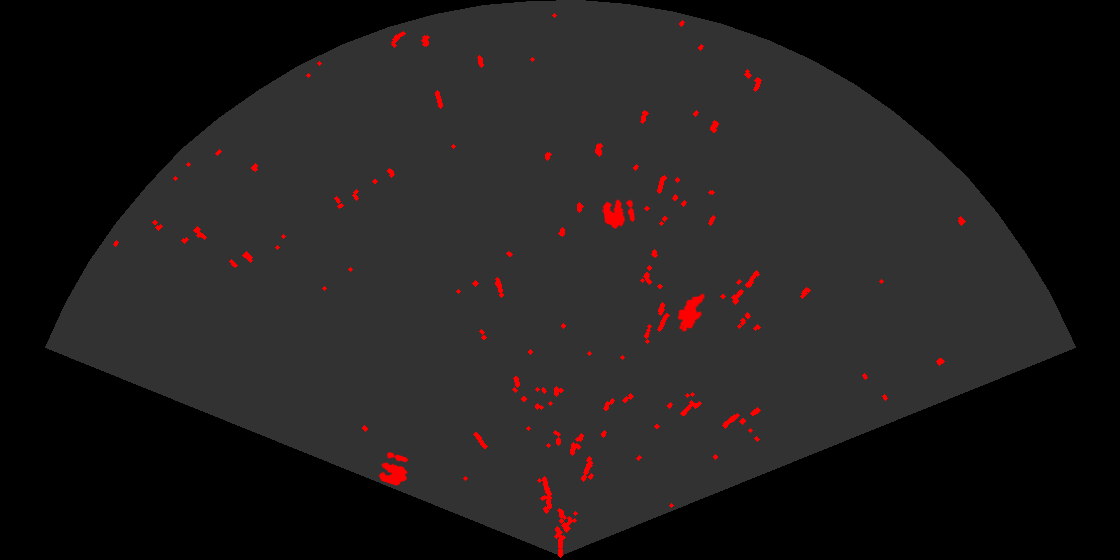AUV: (676, 292, 707, 333)
ball: (377, 450, 410, 487), (601, 198, 636, 230)
